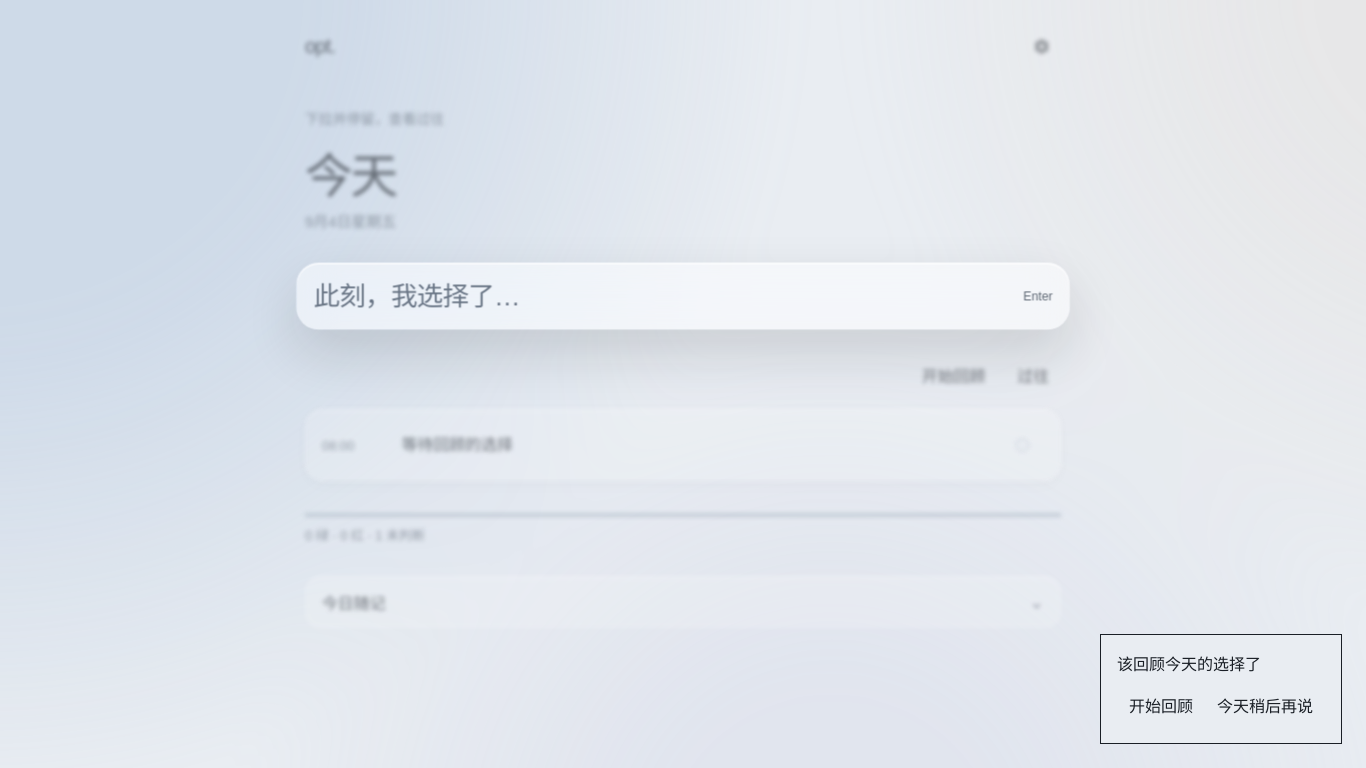
Test: App › starts Review from the due reminder action
What coordinates should you click on to do the following:
click the button "开始回顾" below "该回顾今天的选择了"
I would click on:
 (1161, 705)
Its box is [1117, 683, 1205, 727].
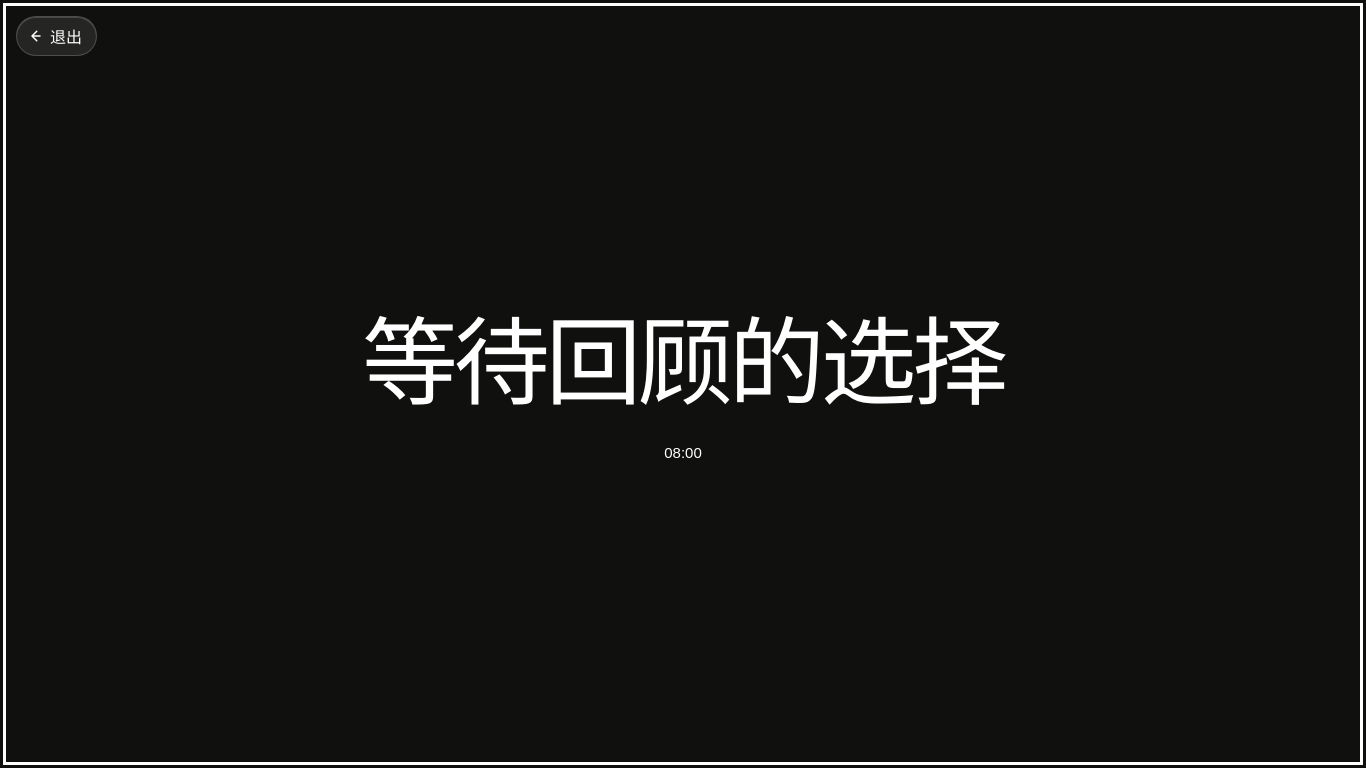
Expected: the element with test id "review-screen" is shown
